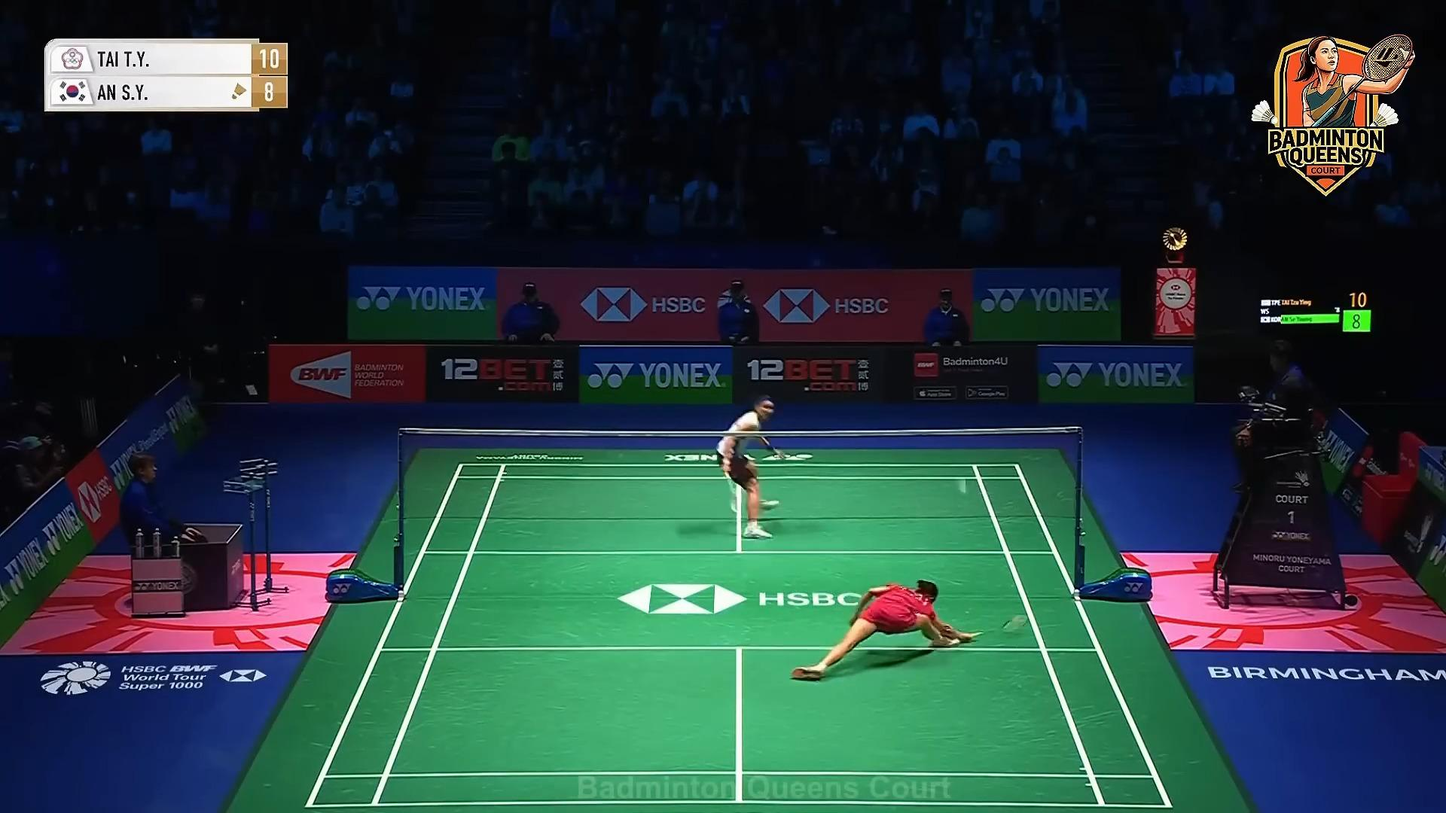player: (789, 578, 977, 681), (717, 396, 782, 540)
